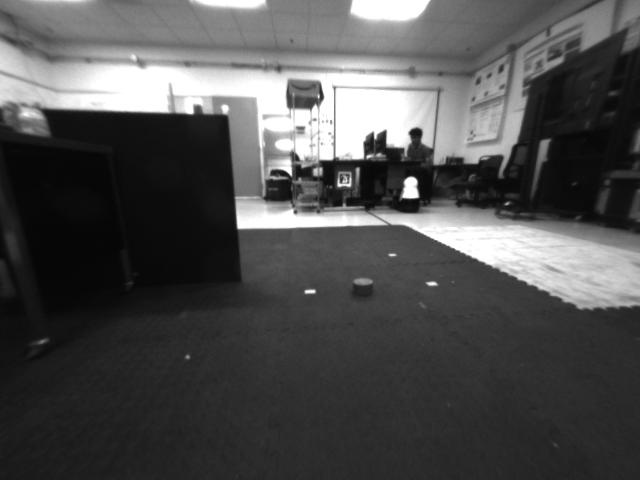dogtoy: (341, 268, 383, 309)
